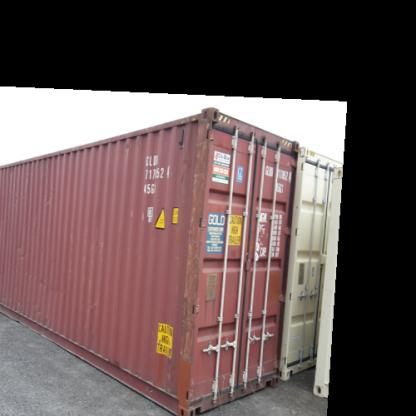Damage: (175, 110, 218, 390)
